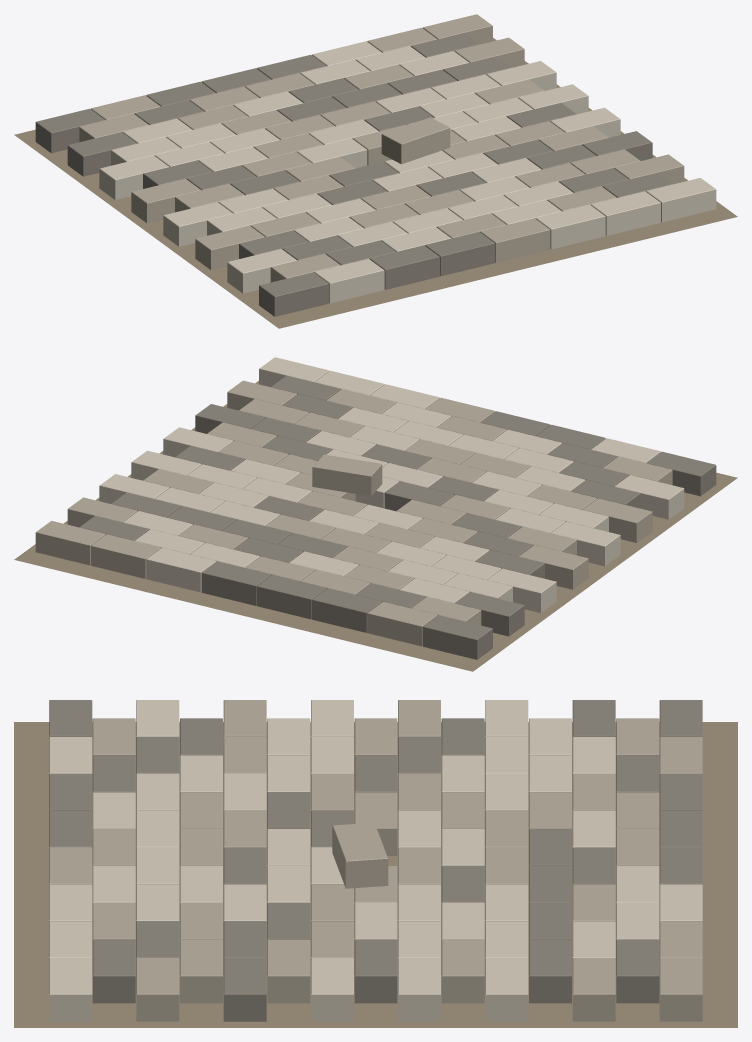
The model's file is terilgan.glb.
The picture shows the model from 3 angles, top to bottom: view 1: azimuth 30°, elevation 25°; view 2: azimuth 150°, elevation 25°; view 3: azimuth 270°, elevation 25°; orthographic projection. The views are drawn at different scales.
Parts seen in each view (by area): view 1: qum, t, t.056, t.001, t.004, t.007, t.002, t.005, t.003, t.006, t.105, t.045 (+100 smaller); view 2: qum, t.056, t.105, t.106, t.109, t.112, t.107, t.110, t.108, t.111, t, t.060 (+101 smaller); view 3: qum, t.056, t.014, t.104, t.044, t.074, t.059, t.007, t.022, t.037, t.082, t.097 (+102 smaller).
Part boxes in pixels (<box>): qum: <box>14,38,737,328</box>; t: <box>259,272,329,316</box>; t.056: <box>381,117,450,164</box>; t.001: <box>314,258,384,303</box>; t.004: <box>480,218,550,262</box>; t.007: <box>646,178,716,222</box>; t.002: <box>369,245,439,289</box>; t.005: <box>535,205,605,249</box>; t.003: <box>425,232,495,276</box>; t.006: <box>591,191,660,235</box>; t.105: <box>35,108,105,153</box>; t.045: <box>163,202,233,246</box>; qum: <box>14,381,737,671</box>; t.056: <box>312,454,382,496</box>; t.105: <box>422,615,492,659</box>; t.106: <box>367,601,437,646</box>; t.109: <box>201,561,271,605</box>; t.112: <box>35,521,105,565</box>; t.107: <box>312,588,382,632</box>; t.110: <box>146,548,216,592</box>; t.108: <box>256,575,326,619</box>; t.111: <box>91,534,160,578</box>; t: <box>646,451,716,496</box>; t.060: <box>518,545,588,589</box>; qum: <box>14,722,737,1027</box>; t.056: <box>332,822,388,888</box>; t.014: <box>92,939,135,1003</box>; t.104: <box>616,939,659,1003</box>; t.044: <box>267,939,310,1003</box>; t.074: <box>441,939,484,1003</box>; t.059: <box>354,939,397,1003</box>; t.007: <box>49,958,92,1021</box>; t.022: <box>136,958,179,1021</box>; t.037: <box>223,958,266,1021</box>; t.082: <box>485,958,528,1021</box>; t.097: <box>572,958,615,1021</box>.
Bounding box in the file's own units: 1.66 × 0.142 × 1.66.
